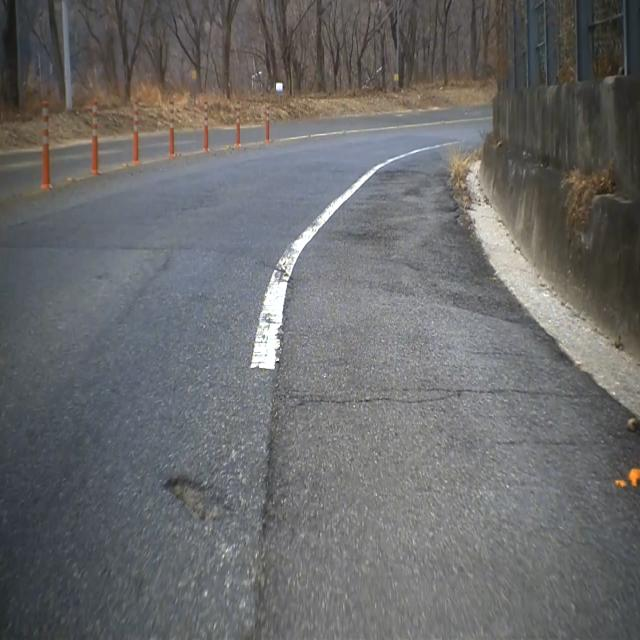Pothole: (164, 461, 230, 535)
